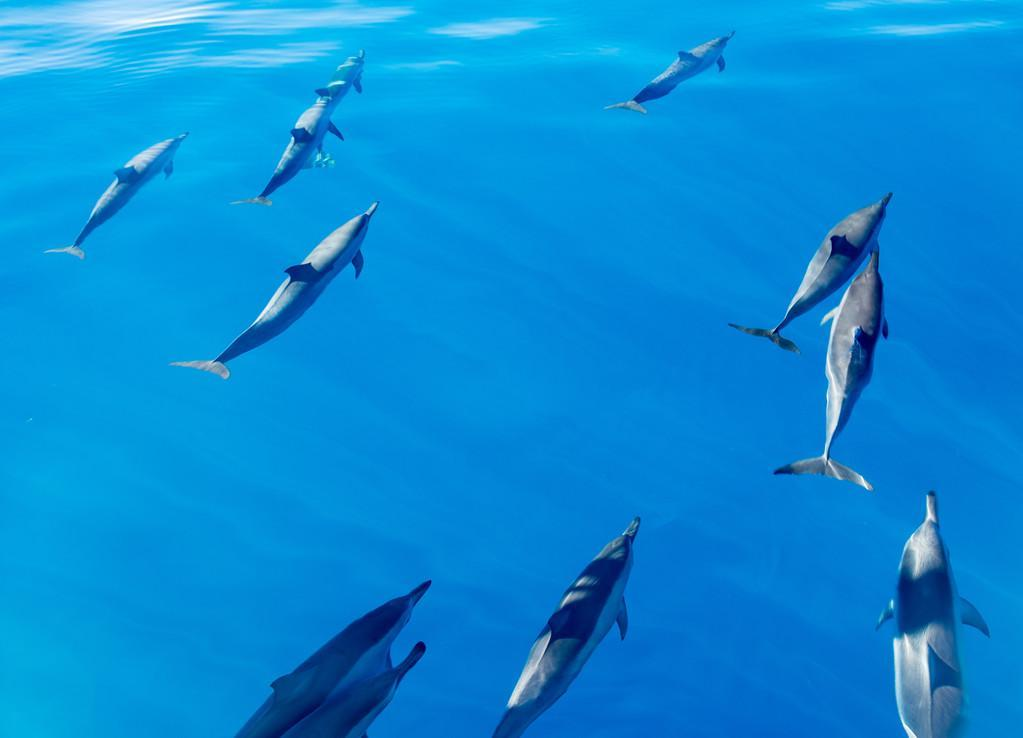fish: (170, 197, 408, 382), (486, 513, 653, 736), (767, 243, 908, 490), (876, 493, 999, 738), (730, 193, 903, 356), (227, 37, 384, 211), (41, 128, 200, 263), (598, 28, 748, 121)
